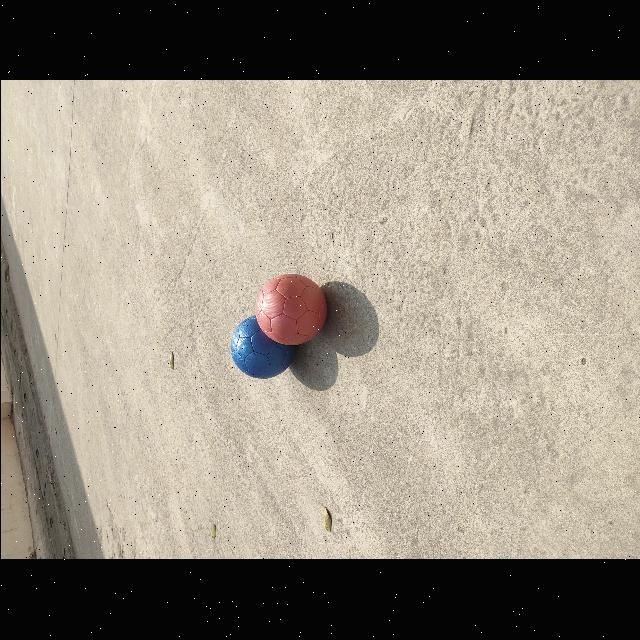B: (229, 315, 297, 380)
R: (255, 274, 326, 346)
